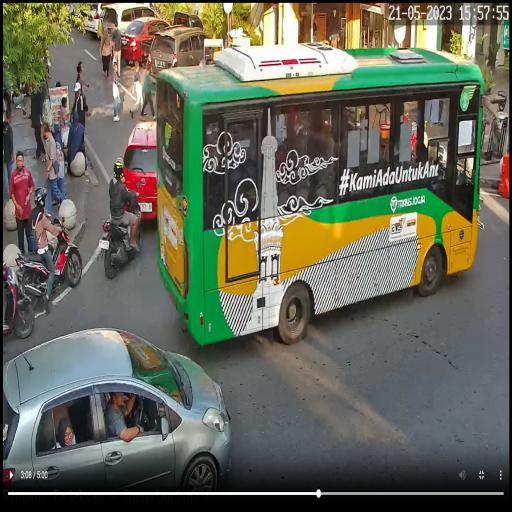mobil: (156, 48, 484, 346), (5, 320, 230, 504), (120, 122, 163, 218)
motor: (100, 180, 144, 282)
